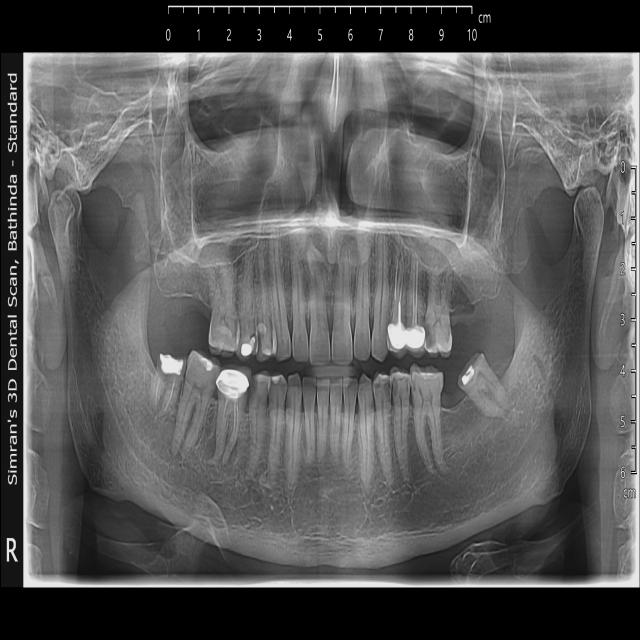Caries: (248, 372, 260, 411), (424, 325, 436, 347), (382, 375, 392, 400), (256, 328, 262, 356), (392, 377, 399, 398)
Crown: (217, 371, 250, 398), (388, 323, 410, 352), (408, 326, 426, 350)
Filling: (159, 352, 183, 379), (198, 354, 214, 374), (462, 367, 472, 392), (241, 341, 253, 357)
Mandibular Canal: (100, 362, 250, 509), (432, 386, 554, 515)
Missing teeth: (163, 295, 214, 338), (439, 369, 467, 412), (450, 305, 473, 353)
Periapical lesion: (199, 435, 240, 488)
Root Canal Treatment: (162, 372, 177, 414), (397, 248, 405, 302), (228, 395, 236, 443), (220, 400, 231, 431), (413, 263, 418, 324), (394, 252, 399, 302), (156, 376, 163, 407), (412, 254, 414, 326)
maxillary sinus: (385, 98, 506, 275), (161, 109, 281, 268)
